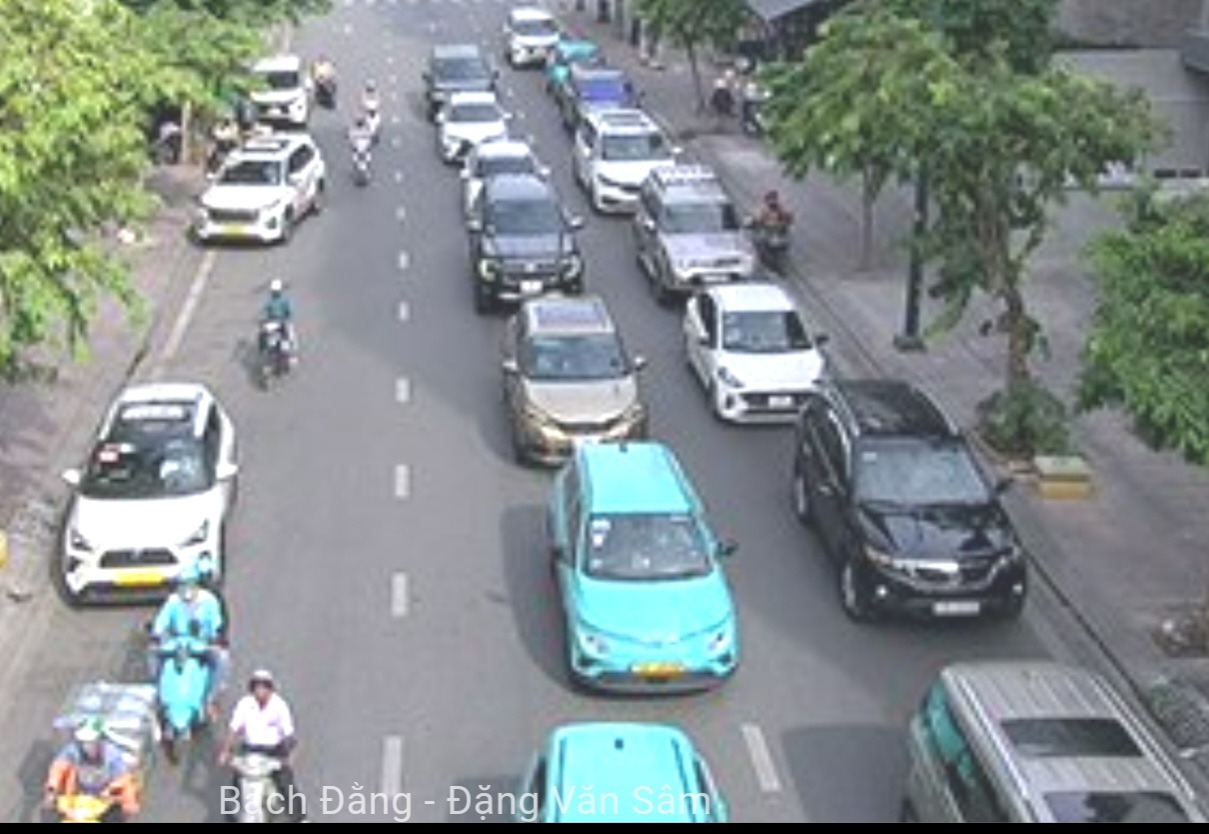car: (796, 379, 1030, 630), (546, 449, 751, 692), (56, 386, 245, 605), (499, 299, 653, 456), (681, 283, 833, 423), (633, 167, 760, 286), (472, 178, 588, 303), (200, 129, 326, 243), (576, 113, 678, 211), (437, 93, 513, 161), (429, 42, 496, 97)
